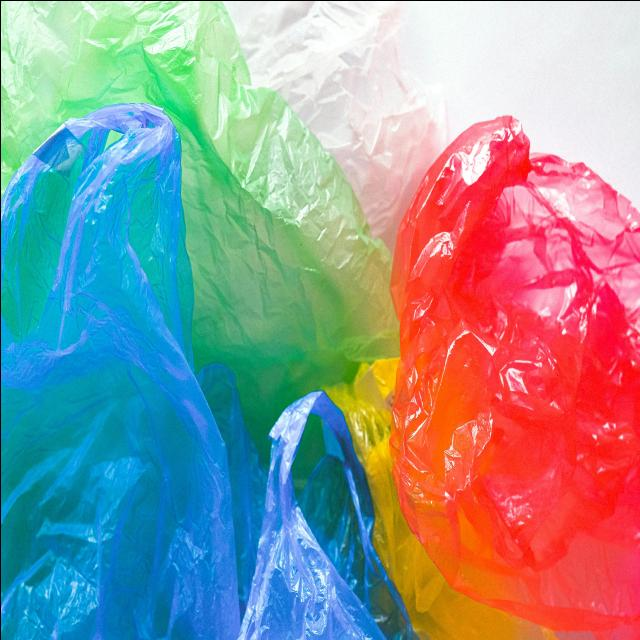plastik: (0, 0, 397, 461), (389, 115, 640, 640), (0, 103, 240, 640), (326, 357, 559, 640), (222, 0, 448, 250), (236, 391, 417, 640)
